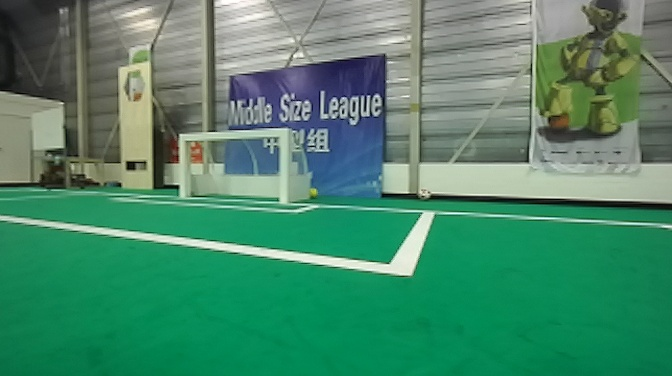ball: (413, 186, 435, 208), (302, 181, 322, 204)
goalpost: (271, 120, 295, 210), (174, 128, 193, 198)
